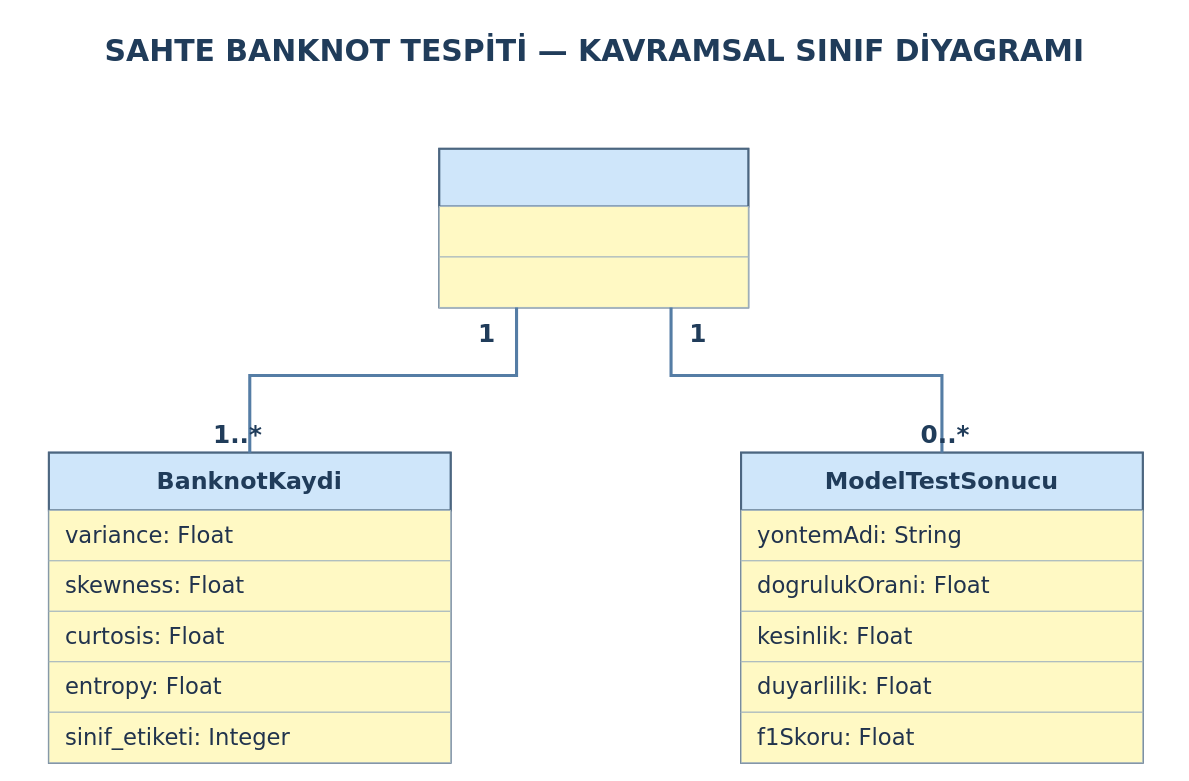
The diagram is 1189 pixels wide and 781 high, and some of its shapes have lost their labels. Here are the shapes that lost their labels. From the top down, the box of each, then its label:
(438, 147, 749, 207): VeriSeti
(438, 205, 748, 257): ad: String
(438, 256, 748, 307): ornekSayisi: Integer
